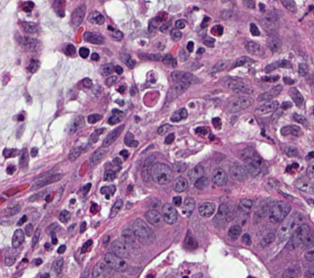nucleus: (132, 219, 154, 244), (268, 201, 290, 222), (102, 125, 123, 146), (151, 163, 172, 184), (32, 174, 62, 188), (227, 96, 252, 112), (166, 83, 188, 101), (225, 79, 252, 93), (170, 71, 198, 84), (258, 85, 281, 100), (245, 155, 261, 176), (215, 203, 231, 224), (229, 162, 247, 180), (149, 12, 166, 31), (261, 11, 277, 31), (162, 203, 177, 224), (71, 4, 85, 26), (89, 148, 106, 165), (256, 101, 278, 114), (245, 41, 264, 56), (121, 226, 136, 245), (19, 37, 39, 51), (188, 165, 204, 181), (145, 209, 161, 225), (212, 168, 227, 185), (69, 115, 83, 133), (198, 202, 214, 217), (108, 109, 123, 124), (266, 35, 280, 51), (173, 176, 187, 192), (259, 232, 275, 246), (170, 108, 187, 121), (184, 231, 197, 248), (83, 32, 103, 43), (232, 56, 252, 67), (20, 21, 38, 33), (182, 197, 194, 215), (110, 199, 122, 217), (88, 11, 104, 24), (12, 229, 23, 247), (68, 146, 82, 160), (241, 147, 256, 160), (100, 185, 115, 198), (228, 224, 241, 239), (53, 0, 65, 16), (124, 132, 137, 146), (161, 54, 176, 66), (211, 60, 227, 71), (264, 61, 280, 72), (141, 165, 152, 181), (90, 129, 103, 142), (194, 176, 207, 189), (239, 198, 252, 211), (100, 63, 114, 75), (122, 54, 134, 67), (27, 59, 39, 72), (46, 223, 59, 235), (139, 53, 161, 60), (32, 227, 40, 246), (19, 149, 27, 167), (29, 191, 45, 200), (6, 205, 20, 215), (170, 28, 181, 40), (59, 210, 70, 222), (158, 124, 171, 134), (87, 114, 101, 123), (249, 23, 259, 35), (266, 179, 278, 189), (175, 19, 186, 29), (211, 25, 222, 35), (65, 44, 75, 55), (104, 170, 115, 180), (105, 76, 117, 85), (3, 149, 16, 157), (23, 1, 33, 11), (111, 30, 122, 39), (202, 36, 213, 45), (262, 75, 278, 81), (79, 47, 88, 57), (212, 117, 221, 127), (165, 133, 174, 143), (17, 215, 26, 225), (221, 10, 232, 18), (179, 49, 187, 60), (25, 224, 33, 235), (242, 233, 250, 244), (160, 22, 169, 31), (82, 78, 91, 87), (112, 157, 121, 166), (175, 163, 185, 171), (82, 183, 90, 193), (243, 0, 254, 7), (195, 127, 206, 134), (201, 17, 209, 26), (6, 165, 14, 174), (173, 196, 181, 205), (90, 203, 97, 212), (187, 41, 193, 51), (80, 222, 86, 232), (120, 150, 128, 157), (91, 53, 98, 60), (115, 66, 122, 73), (118, 85, 125, 92), (31, 148, 37, 156), (45, 195, 51, 201), (52, 235, 56, 244), (197, 48, 204, 53), (18, 115, 23, 120), (45, 243, 49, 249)
